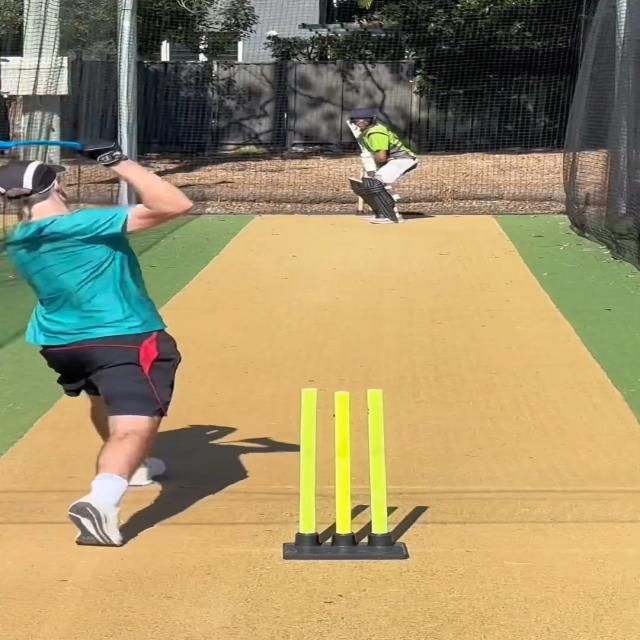stump: (282, 383, 408, 561)
